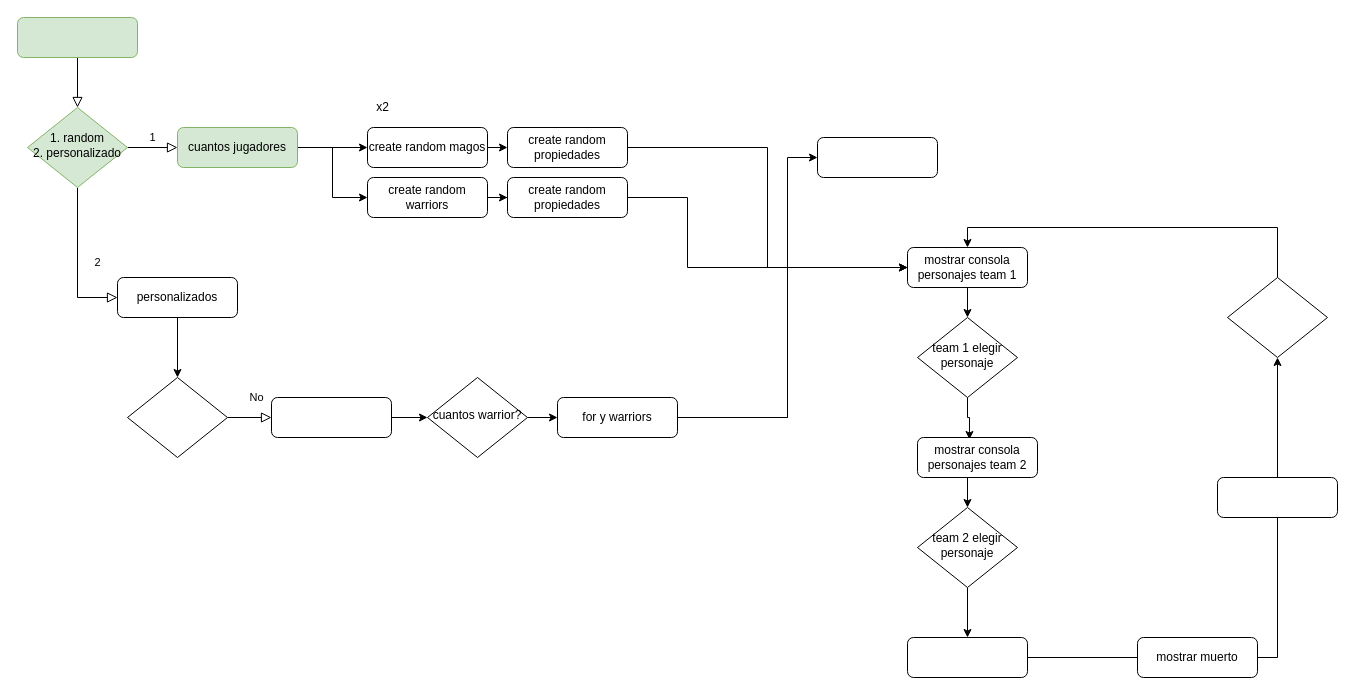
This 1355x695 diagram has some shape labels left out. The shapes that lost their labels are listed below. From the top down, each one's centre as x and y in pixels, then its label:
At point (77, 37): "Start".
At point (877, 157): "exportar party".
At point (1277, 317): "sigue alguien vivo?".
At point (177, 417): "cuantos magos?".
At point (331, 417): "for x magos".
At point (1277, 497): "mostrar cementerio".
At point (967, 657): "pelea".
